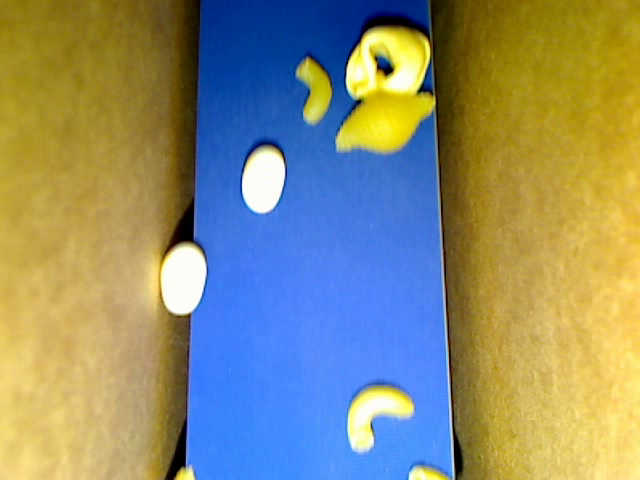elbow: (345, 384, 414, 452), (297, 56, 332, 124)
shell: (335, 92, 436, 153)
tortellini: (345, 26, 431, 100)
